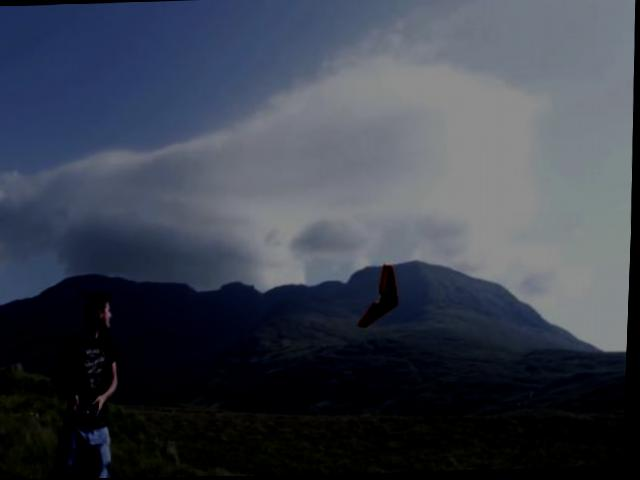flying wing: (357, 263, 403, 330)
